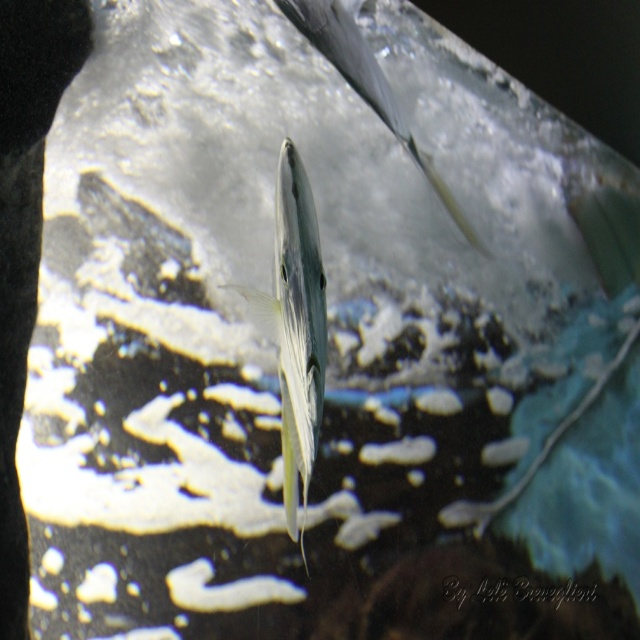Fish: (272, 0, 498, 271), (248, 99, 346, 578)
